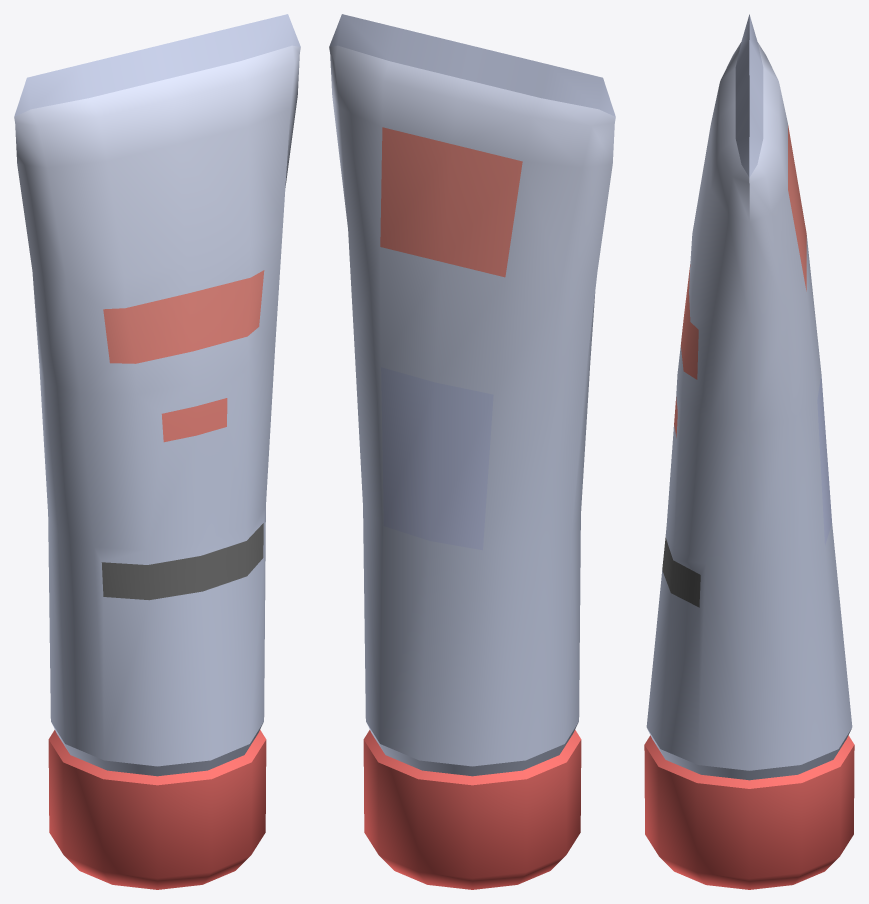
The model's file is CreamHand.fbx.
The picture shows the model from 3 angles, left to right: view 1: azimuth 30°, elevation 25°; view 2: azimuth 150°, elevation 25°; view 3: azimuth 270°, elevation 25°; orthographic projection. The views are drawn at different scales.
Parts seen in each view (by area): view 1: CreamHand; view 2: CreamHand; view 3: CreamHand.
Boxes of the visible parts, left/top/right/bottom form: CreamHand: left=14, top=14, right=300, bottom=889; CreamHand: left=329, top=14, right=615, bottom=889; CreamHand: left=644, top=14, right=854, bottom=889.
Size of the model in its own units: 1.9 by 5.11 by 1.25.
